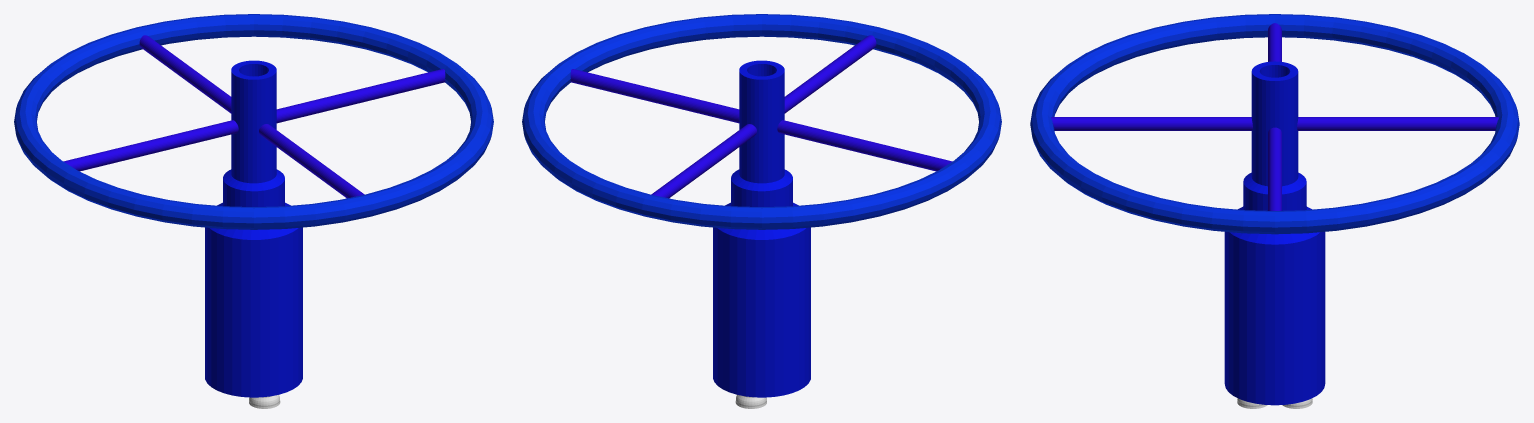
Rendered from spacestation.glb.
3 renders of one model, left to right at view 1: azimuth 30°, elevation 25°; view 2: azimuth 150°, elevation 25°; view 3: azimuth 270°, elevation 25°, orthographic. The views are drawn at different scales.
Visible parts, largest first — view 1: Torus.001, Cylinder, Cylinder.001, Cylinder.002; view 2: Torus.001, Cylinder, Cylinder.001, Cylinder.002; view 3: Torus.001, Cylinder, Cylinder.002, Cylinder.001.
Boxes of the visible parts, bbox=[...] form: Torus.001: bbox=[14, 14, 493, 229]; Cylinder: bbox=[205, 60, 302, 397]; Cylinder.001: bbox=[63, 69, 445, 171]; Cylinder.002: bbox=[139, 35, 364, 198]; Torus.001: bbox=[522, 14, 1001, 229]; Cylinder: bbox=[713, 60, 810, 397]; Cylinder.001: bbox=[570, 69, 952, 171]; Cylinder.002: bbox=[651, 35, 876, 198]; Torus.001: bbox=[1030, 14, 1519, 234]; Cylinder: bbox=[1224, 61, 1325, 405]; Cylinder.002: bbox=[1051, 117, 1498, 130]; Cylinder.001: bbox=[1268, 23, 1281, 210].
Size of the model in its own units: 2100 by 1566 by 2100.
